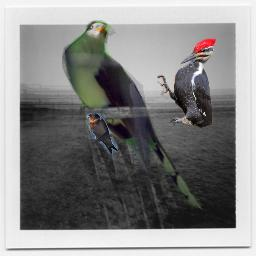Cuckoo: (62, 20, 210, 211)
Swallow: (86, 113, 118, 154)
Woodpecker: (157, 38, 216, 128)
